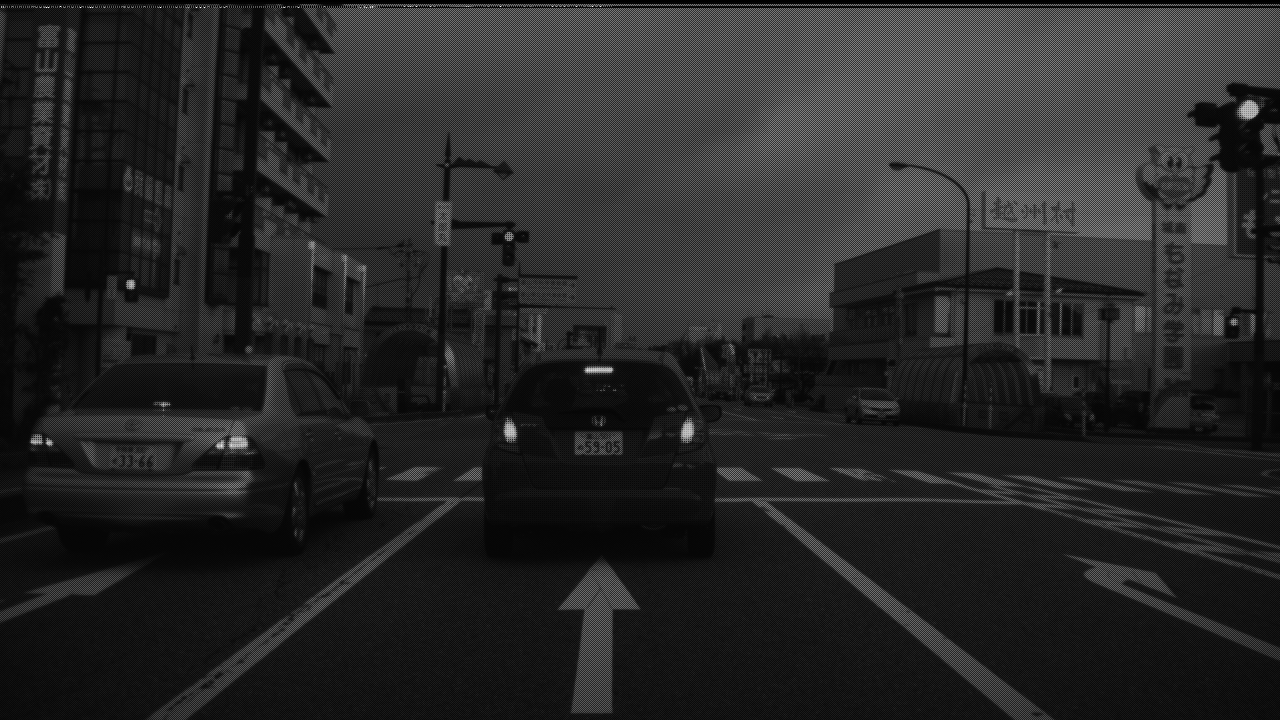pole: (234, 1, 266, 352), (435, 123, 451, 405), (1250, 168, 1265, 434), (961, 173, 970, 416), (1043, 233, 1053, 390), (93, 268, 105, 376), (493, 265, 502, 397), (1011, 231, 1021, 346), (1104, 319, 1112, 429), (514, 306, 521, 373)
